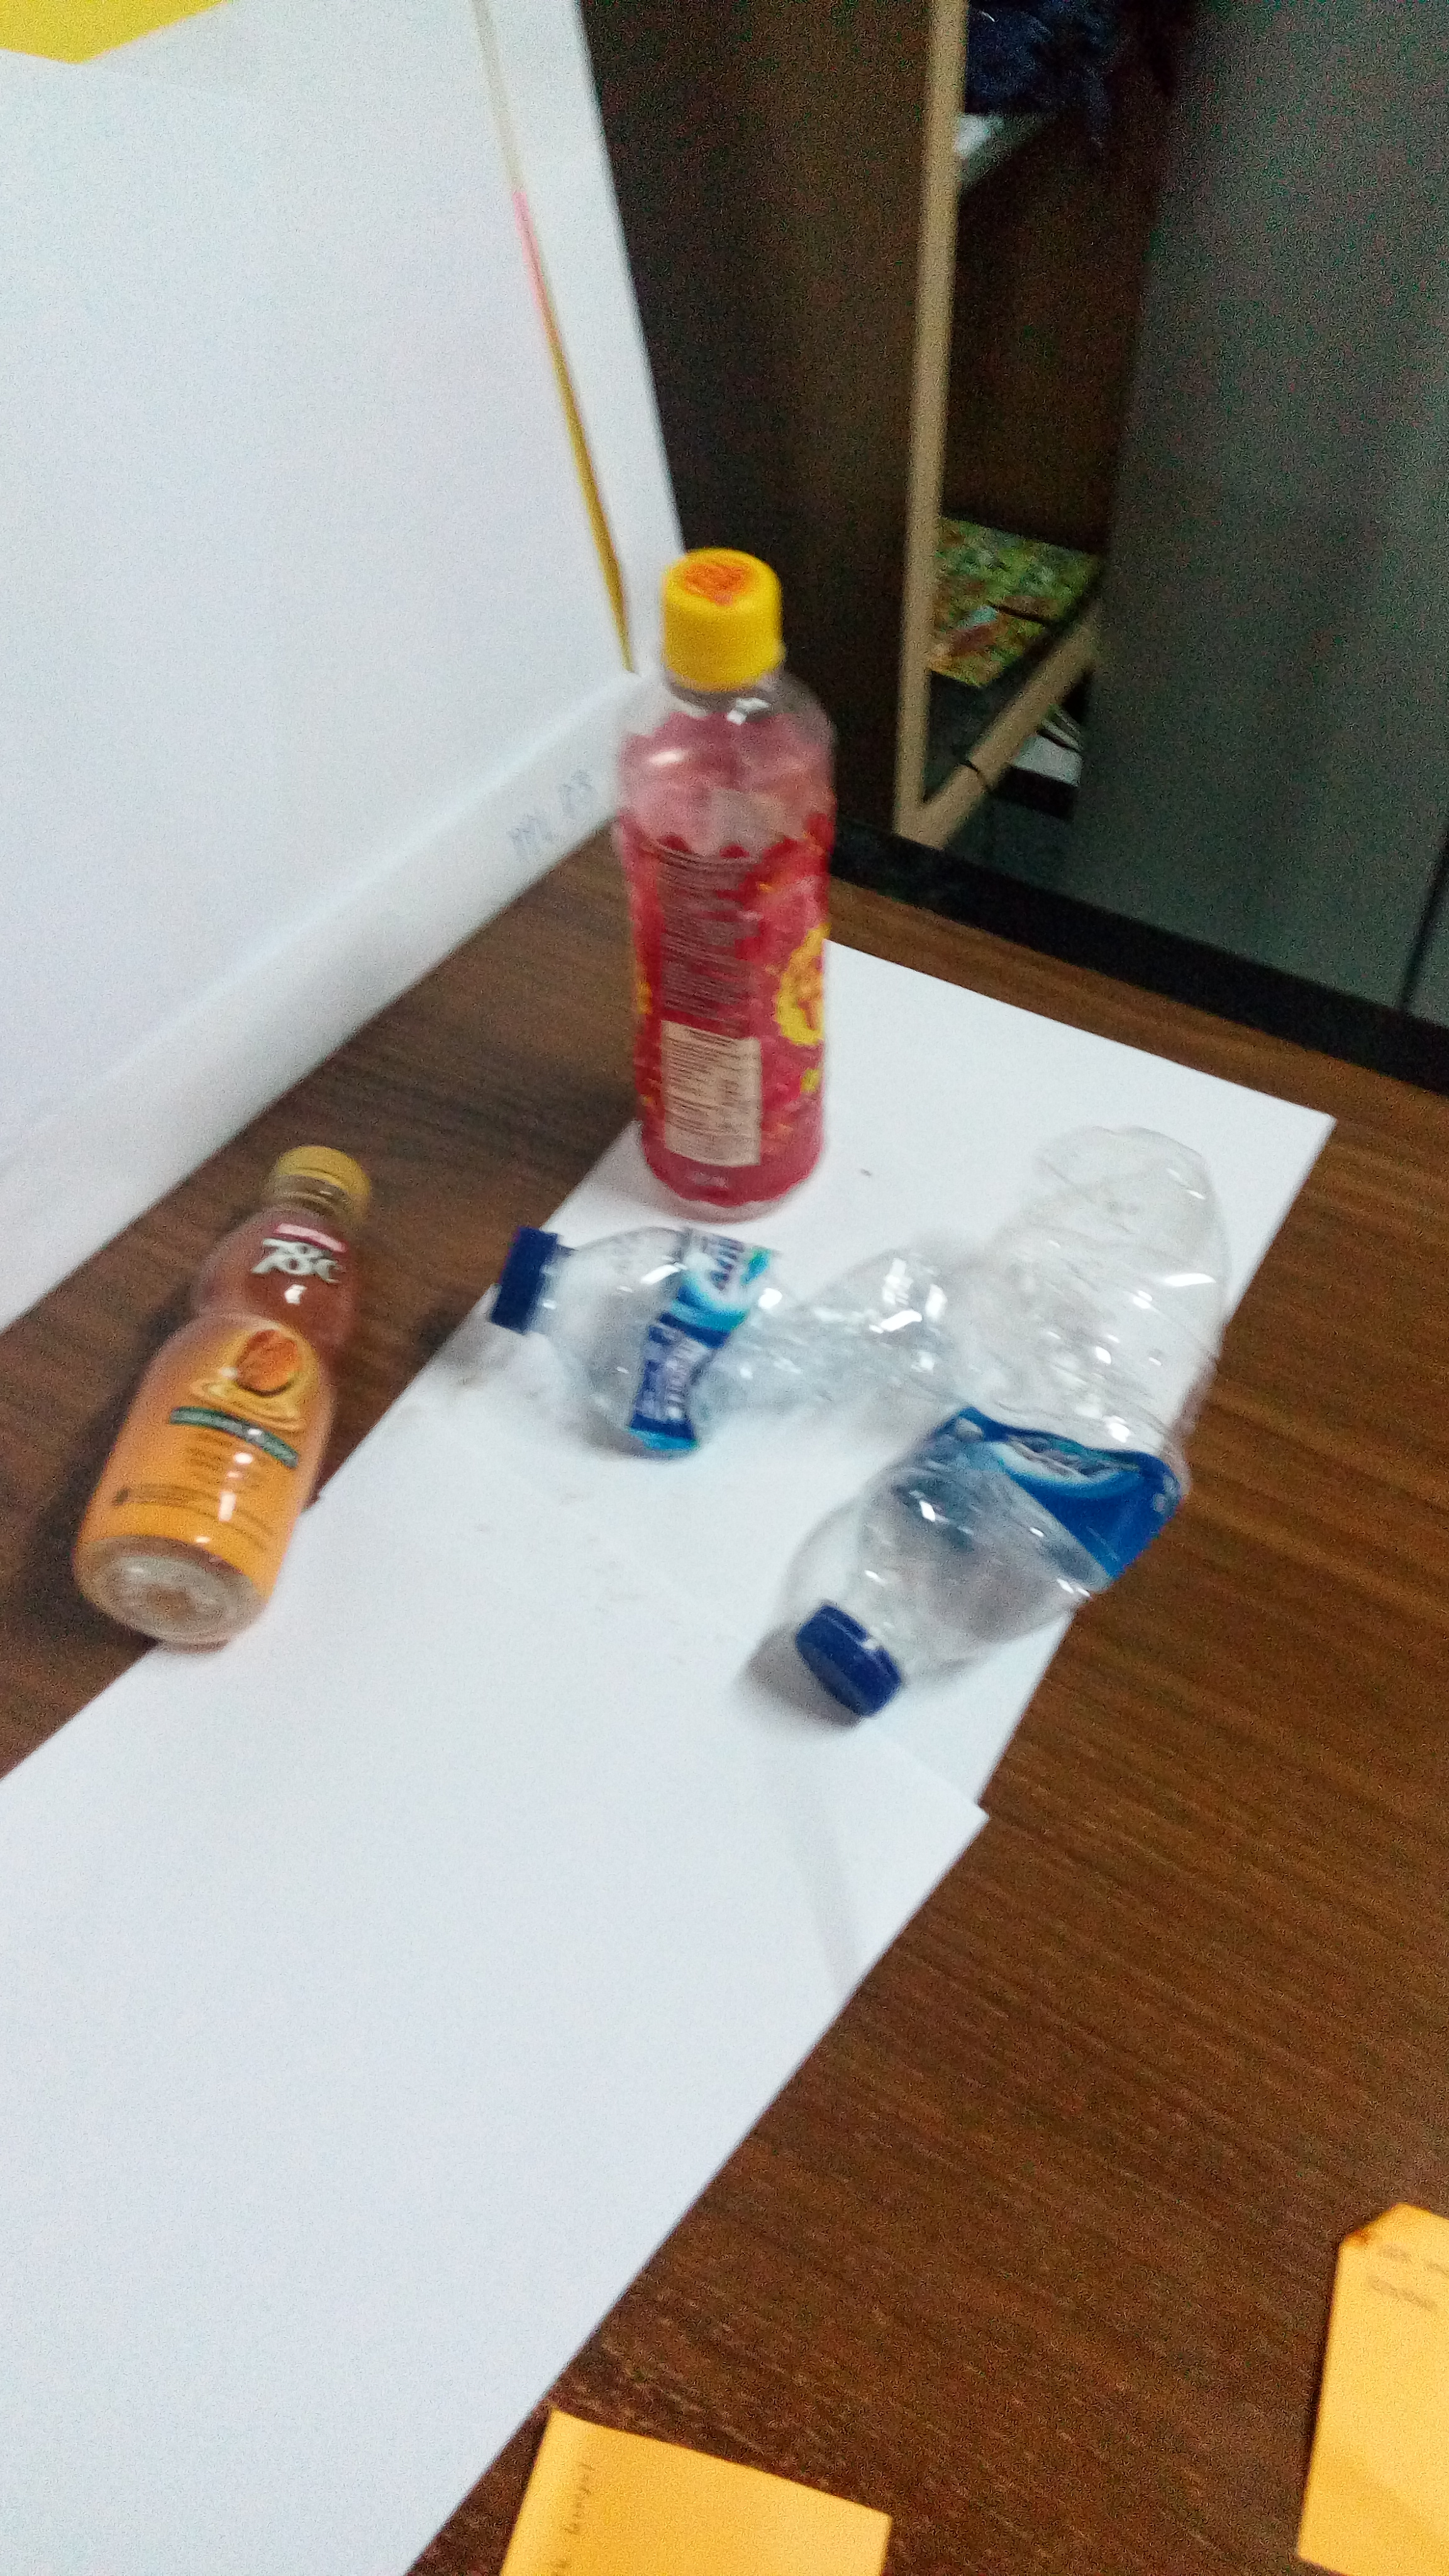botol: (784, 1139, 1237, 1718), (598, 552, 846, 1191), (78, 1139, 382, 1644), (483, 1210, 1031, 1458)
